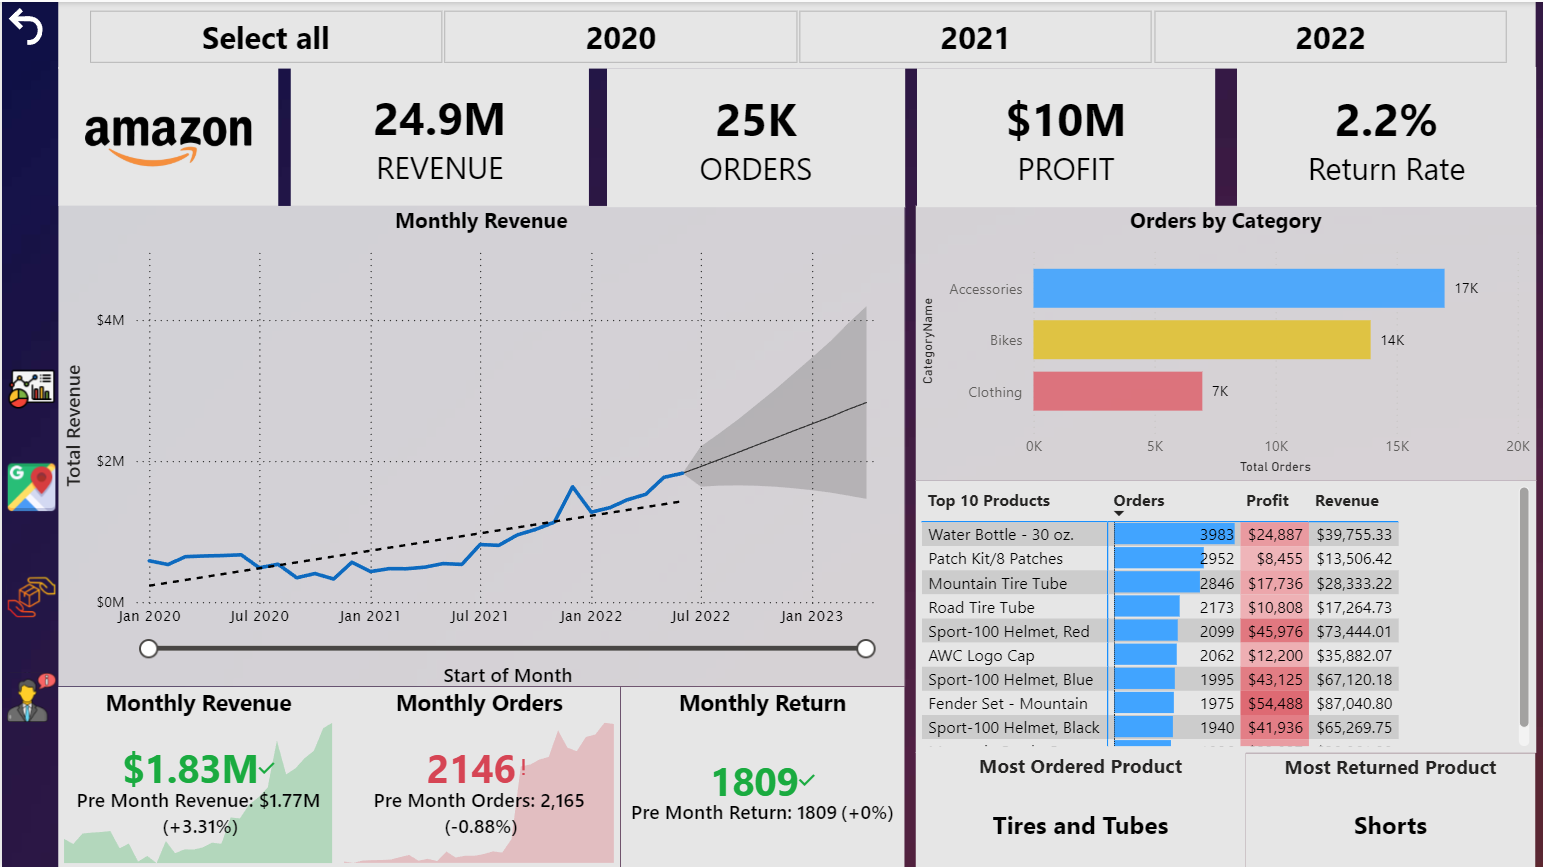

What the dashboard file says about the page in this screenshot:
{"tool":"powerbi","page":{"name":"Executive Dashboard","canvas":[1280,720],"ordinal":0},"visuals":[{"type":"shape","title":"Left Nav Bar","box":[0,0,48,720.3],"z":0},{"type":"lineChart","title":"Monthly Revenue","fields":{"Category":["Calendar Lookup.Start of Month"],"Y":["Table Measure.Total Revenue"]},"box":[46.2,168.8,701.2,398.8],"z":1000},{"type":"actionButton","box":[0,543.7,100,65],"z":1000,"group":"g2"},{"type":"actionButton","box":[0,467,100,52.5],"z":1500,"group":"g2"},{"type":"actionButton","box":[0,375.8,100,52.5],"z":2000,"group":"g2"},{"type":"kpi","title":"Monthly Return","fields":{"Goal":["Table Measure.Previous Month Returns"],"Indicator":["Table Measure.Total Return"],"TrendLine":["Calendar Lookup.Start of Month"]},"box":[513,568.1,234.9,151],"z":2000},{"type":"kpi","title":"Monthly Orders","fields":{"Goal":["Table Measure.Previous Month Order"],"Indicator":["Table Measure.Total Orders"],"TrendLine":["Calendar Lookup.Start of Month"]},"box":[279.3,568.1,233.7,151],"z":3000},{"type":"actionButton","box":[0,282.5,100,76.2],"z":4000,"group":"g2"},{"type":"kpi","title":"Monthly Revenue","fields":{"Goal":["Table Measure.Previous Month Revenue"],"Indicator":["Table Measure.Total Revenue"],"TrendLine":["Calendar Lookup.Start of Month"]},"box":[46.2,567.5,232.5,151.2],"z":4000},{"type":"clusteredBarChart","title":"Orders by Category","fields":{"Category":["Product Categories Lookup.CategoryName"],"Y":["Table Measure.Total Orders"]},"box":[757.5,169,514.2,227.7],"z":5000},{"type":"pivotTable","title":"Sales by State","fields":{"Rows":["Product Lookup.ProductName"],"Values":["Table Measure.Total Orders","Table Measure.Total Profit","Table Measure.Total Revenue"]},"box":[757.5,396.7,514.2,225.3],"z":6000},{"type":"cardVisual","title":"Most Ordered Product","fields":{"Data":["Min(Product Subcategories Lookup.SubcategoryName)"]},"box":[757.5,622,273.3,97.1],"z":7000},{"type":"cardVisual","title":"Most Returned Product","fields":{"Data":["Min(Product Subcategories Lookup.SubcategoryName)"]},"box":[1031.2,622.5,240,96.2],"z":8000},{"type":"slicer","fields":{"Values":["Calendar Lookup.Year"]},"box":[46.2,0,1225,55],"z":9000},{"type":"image","box":[46.2,53.8,182.5,115],"z":10000},{"type":"group","id":"g1","title":"KPI's Value","box":[238.9,53.9,1032.7,116.7],"z":11000},{"type":"cardVisual","fields":{"Data":["Table Measure.Return Rate"]},"box":[1023.5,53.9,248.1,116.3],"z":11000,"group":"g1"},{"type":"actionButton","box":[0,0,91.2,40],"z":12000},{"type":"cardVisual","fields":{"Data":["Table Measure.Total Profit"]},"box":[758,55.4,247.5,115.2],"z":12000,"group":"g1"},{"type":"shape","title":"Left Nav Bar","box":[80,0,45,720],"z":13000},{"type":"cardVisual","fields":{"Data":["Table Measure.Total Revenue"]},"box":[238.9,54,247.5,115.2],"z":13000,"group":"g1"},{"type":"group","id":"g2","title":"Navigation","box":[0,282.5,100,326.2],"z":13001},{"type":"cardVisual","fields":{"Data":["Table Measure.Total Orders"]},"box":[500.6,55.4,247.5,115.2],"z":14000,"group":"g1"}]}

Visuals, with their boxes on the page's 1280x720 design canvas (x1, y1, x2, y2). These are canvas units, not pixel positions in the 1543x867 screenshot, which may show the page scaled, cropped or inside an application window:
"Left Nav Bar" shape: detection(0, 0, 48, 720)
"Monthly Revenue" lineChart: detection(46, 169, 747, 568)
actionButton: detection(0, 544, 100, 609)
actionButton: detection(0, 467, 100, 520)
actionButton: detection(0, 376, 100, 428)
"Monthly Return" kpi: detection(513, 568, 748, 719)
"Monthly Orders" kpi: detection(279, 568, 513, 719)
actionButton: detection(0, 282, 100, 359)
"Monthly Revenue" kpi: detection(46, 568, 279, 719)
"Orders by Category" clusteredBarChart: detection(758, 169, 1272, 397)
"Sales by State" pivotTable: detection(758, 397, 1272, 622)
"Most Ordered Product" cardVisual: detection(758, 622, 1031, 719)
"Most Returned Product" cardVisual: detection(1031, 622, 1271, 719)
slicer - Calendar Lookup.Year: detection(46, 0, 1271, 55)
image: detection(46, 54, 229, 169)
"KPI's Value" group: detection(239, 54, 1272, 171)
cardVisual - Table Measure.Return Rate: detection(1024, 54, 1272, 170)
actionButton: detection(0, 0, 91, 40)
cardVisual - Table Measure.Total Profit: detection(758, 55, 1006, 171)
"Left Nav Bar" shape: detection(80, 0, 125, 720)
cardVisual - Table Measure.Total Revenue: detection(239, 54, 486, 169)
"Navigation" group: detection(0, 282, 100, 609)
cardVisual - Table Measure.Total Orders: detection(501, 55, 748, 171)
